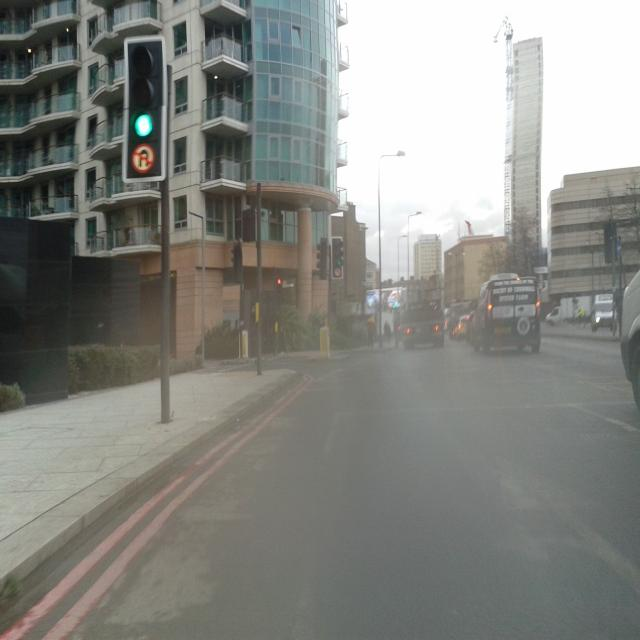car: (470, 272, 542, 356), (452, 314, 470, 341), (545, 307, 561, 324)
